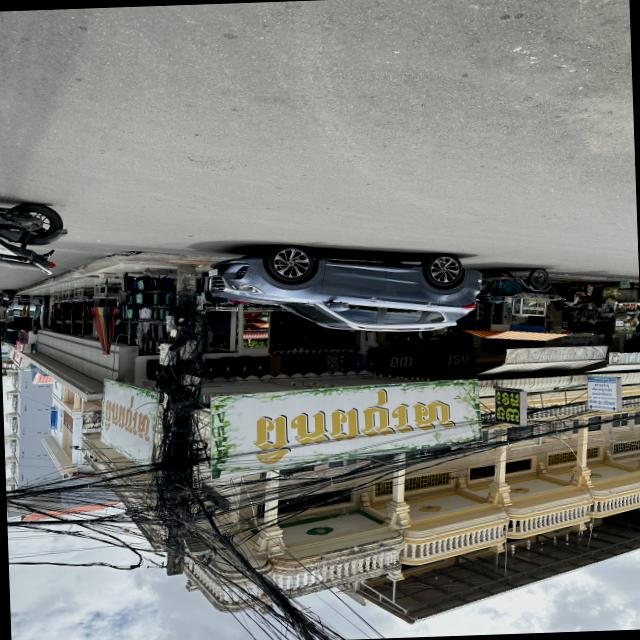Yolov11kh: (239, 380, 455, 468), (491, 390, 522, 424)
